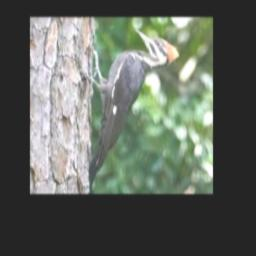Woodpecker: (87, 30, 180, 192)
